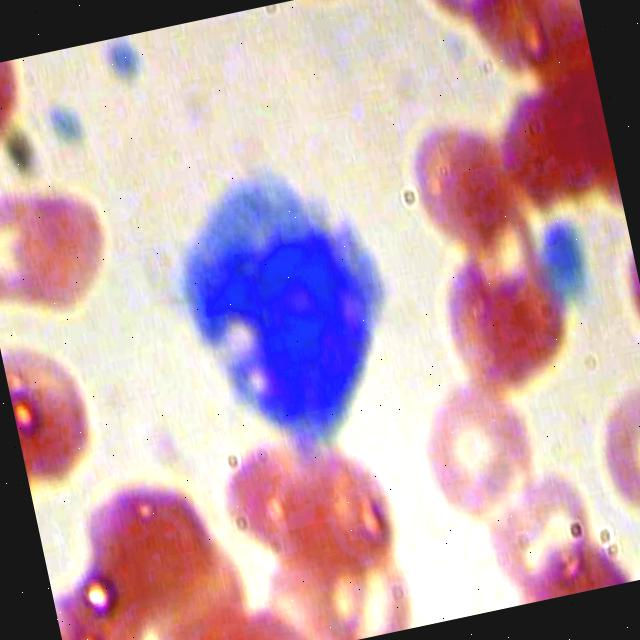Platelets: (38, 88, 95, 151), (538, 211, 594, 274), (91, 32, 148, 90)
RBC: (195, 421, 356, 605), (277, 416, 438, 600), (416, 226, 584, 400), (359, 88, 527, 262), (0, 161, 158, 335), (73, 447, 221, 628), (406, 371, 550, 542), (468, 436, 610, 606), (477, 65, 620, 228), (0, 313, 122, 489), (289, 513, 438, 640), (0, 162, 88, 312), (575, 363, 640, 527), (0, 55, 44, 169)
WBC: (138, 131, 422, 473)
